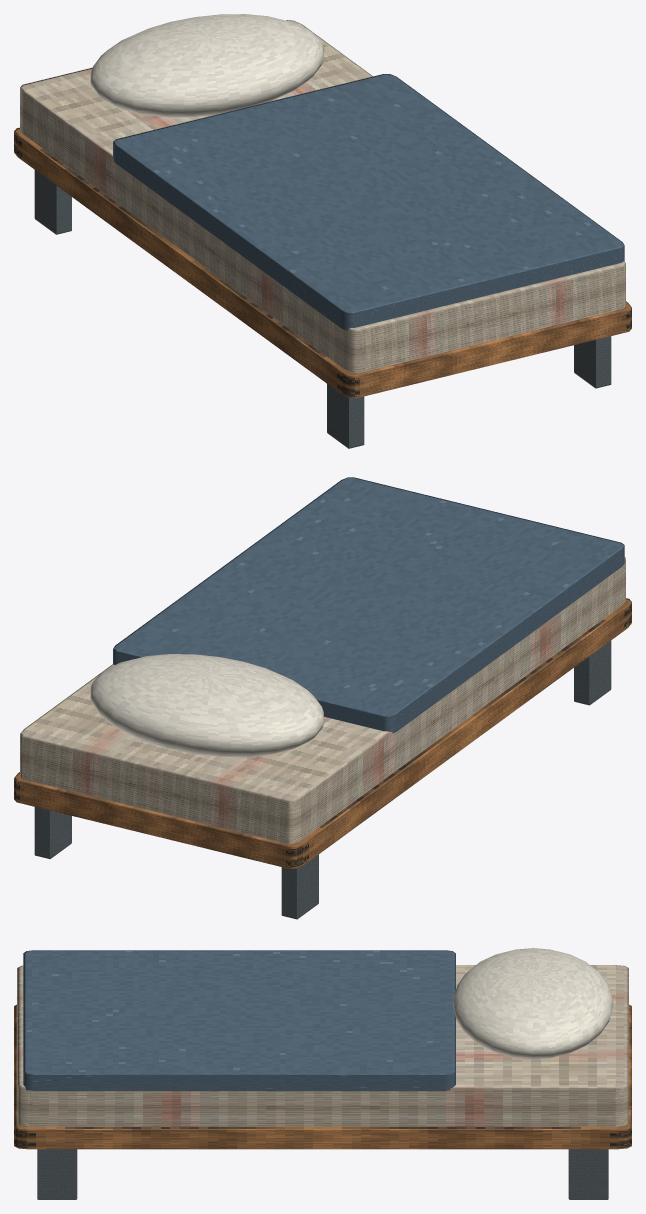
File: bunk.glb
3 renders of one model, top to bottom at view 1: azimuth 30°, elevation 25°; view 2: azimuth 150°, elevation 25°; view 3: azimuth 270°, elevation 25°, orthographic. The views are drawn at different scales.
Parts seen in each view (by area): view 1: quilt, mattress, pillow, frame, leg (×3); view 2: quilt, mattress, pillow, frame, leg (×3); view 3: quilt, mattress, frame, pillow, leg (×2).
Boxes of the visible parts, x1,y1,x2,y2 form: quilt: (113, 74, 624, 330); mattress: (20, 20, 625, 373); pillow: (90, 14, 324, 117); frame: (14, 127, 631, 398); leg (×3): (34, 170, 611, 448); quilt: (113, 477, 624, 733); mattress: (20, 557, 625, 843); pillow: (90, 654, 324, 757); frame: (14, 598, 631, 868); leg (×3): (34, 640, 611, 919); quilt: (23, 950, 455, 1090); mattress: (17, 965, 628, 1126); frame: (14, 1004, 631, 1149); pillow: (453, 948, 613, 1059); leg (×2): (37, 1149, 608, 1199).
Bounding box in the file's own units: 0.99 × 0.6008 × 2.03.
Materials: 5 (5 with a texture image).
